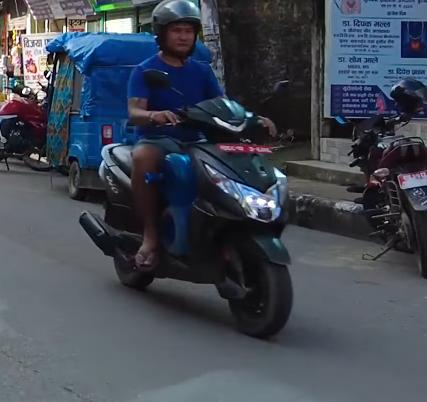scooter: (76, 94, 302, 345)
